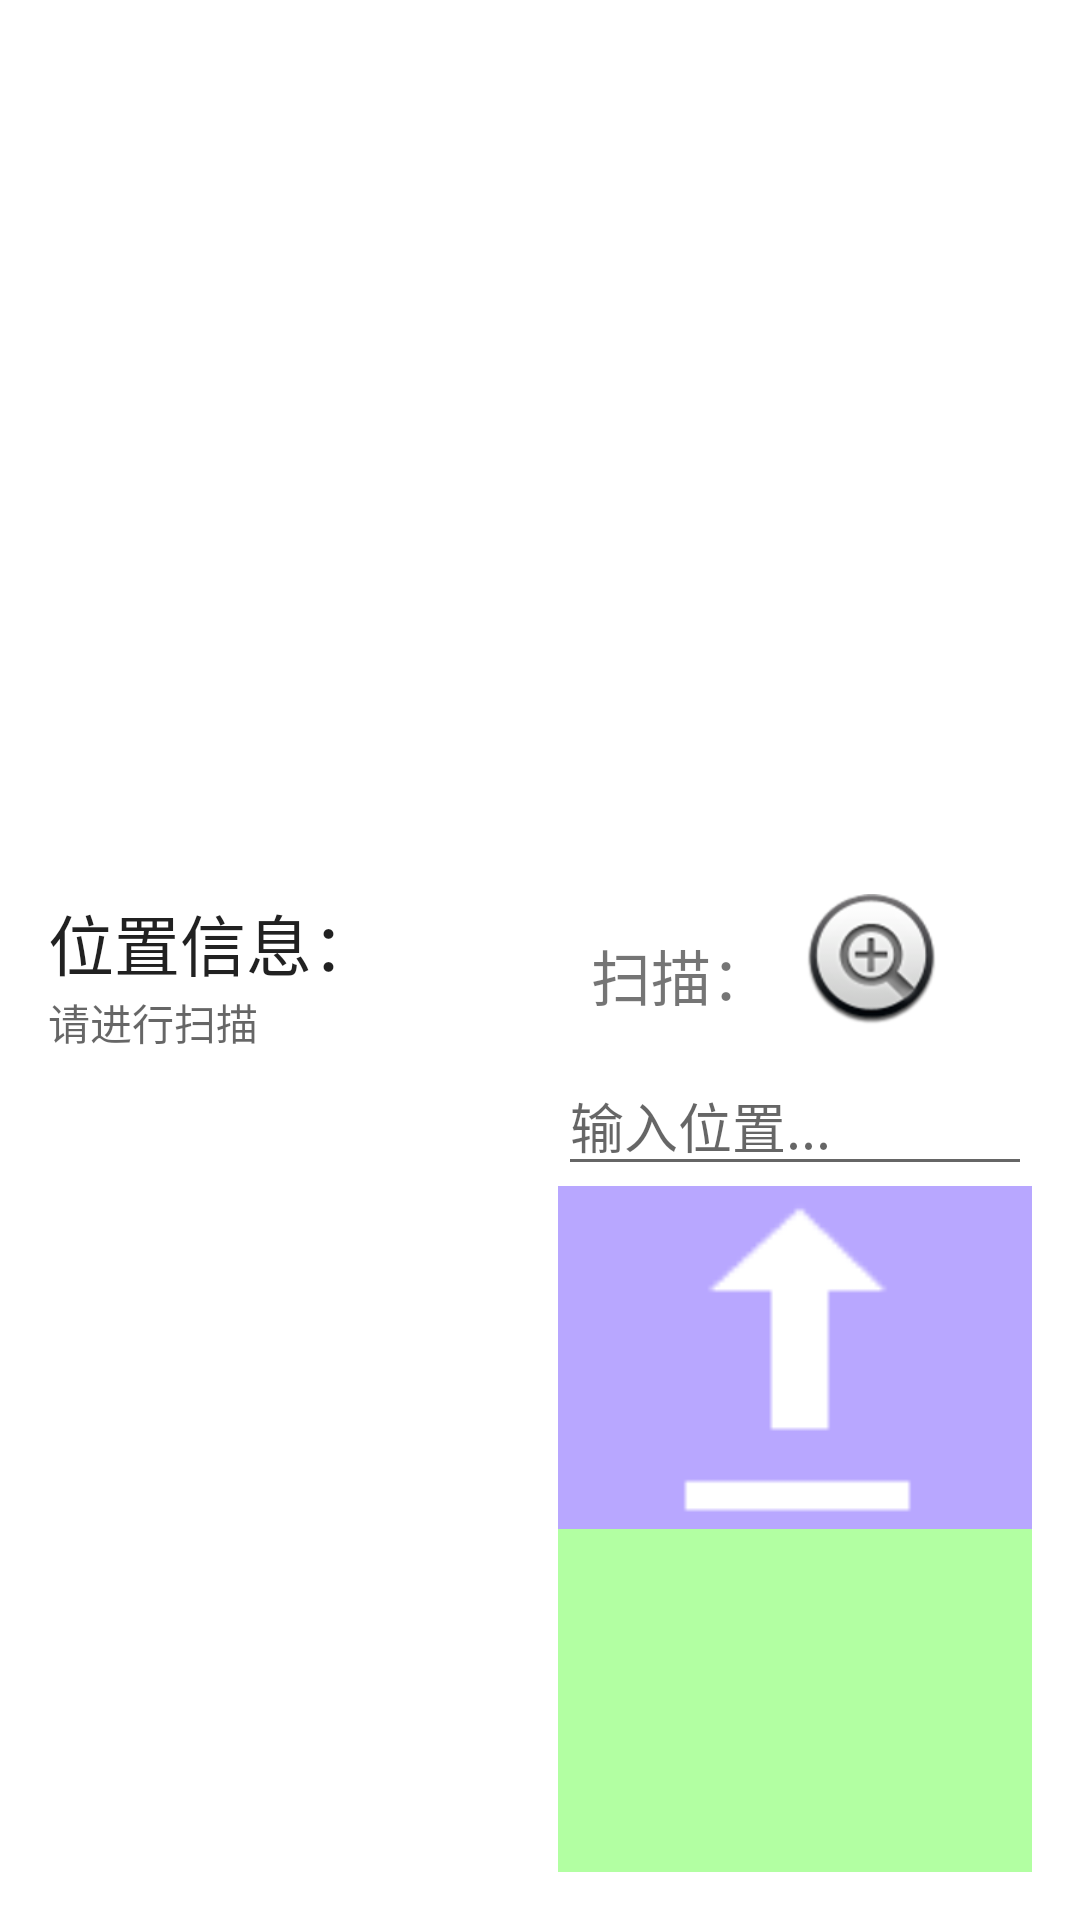

Named icons in this screenshot (1080 × 1920) and their bounding boxes, (x1, y1, x2, y2):
plus: (808, 894, 935, 1023)
